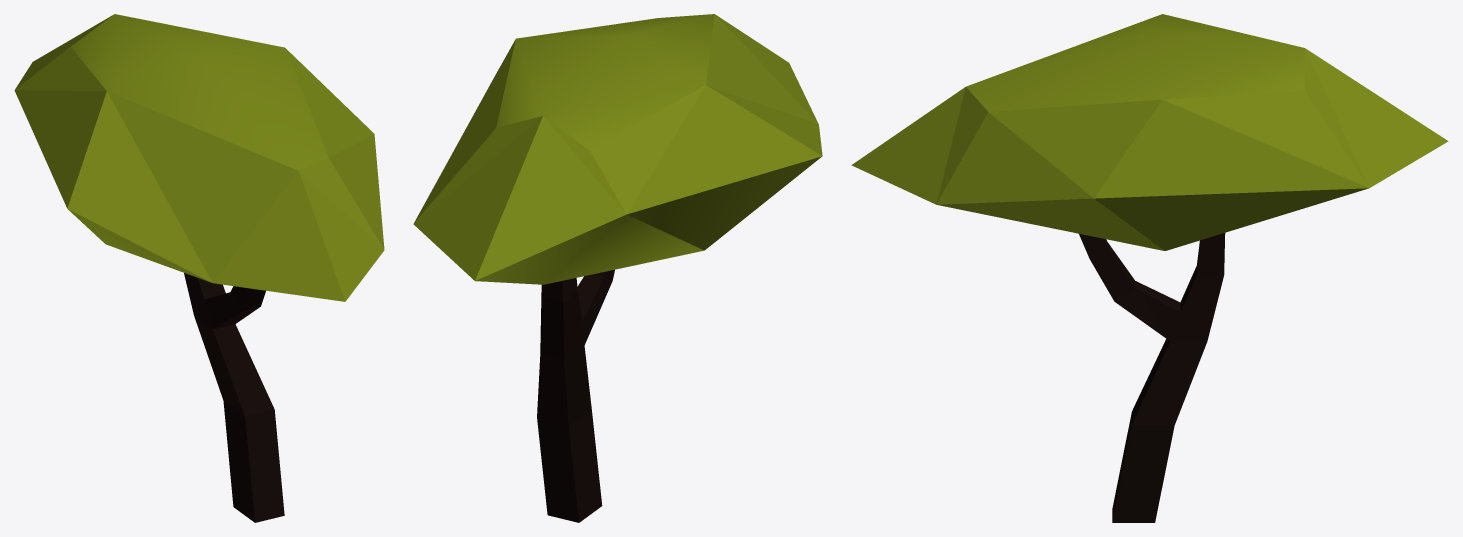
The model's file is bush1.FBX.
3 renders of one model, left to right at view 1: azimuth 30°, elevation 25°; view 2: azimuth 150°, elevation 25°; view 3: azimuth 270°, elevation 25°, orthographic. The views are drawn at different scales.
Parts seen in each view (by area): view 1: Box1401, Box1400; view 2: Box1401, Box1400; view 3: Box1401, Box1400.
Boxes of the visible parts, box(x1,y1,x2,y2) form: Box1401: box(14, 14, 384, 301); Box1400: box(184, 273, 284, 522); Box1401: box(413, 14, 822, 284); Box1400: box(537, 269, 614, 522); Box1401: box(851, 14, 1448, 250); Box1400: box(1079, 233, 1225, 522).
Bounding box in the file's own units: 6.44 × 9.32 × 11.03.
